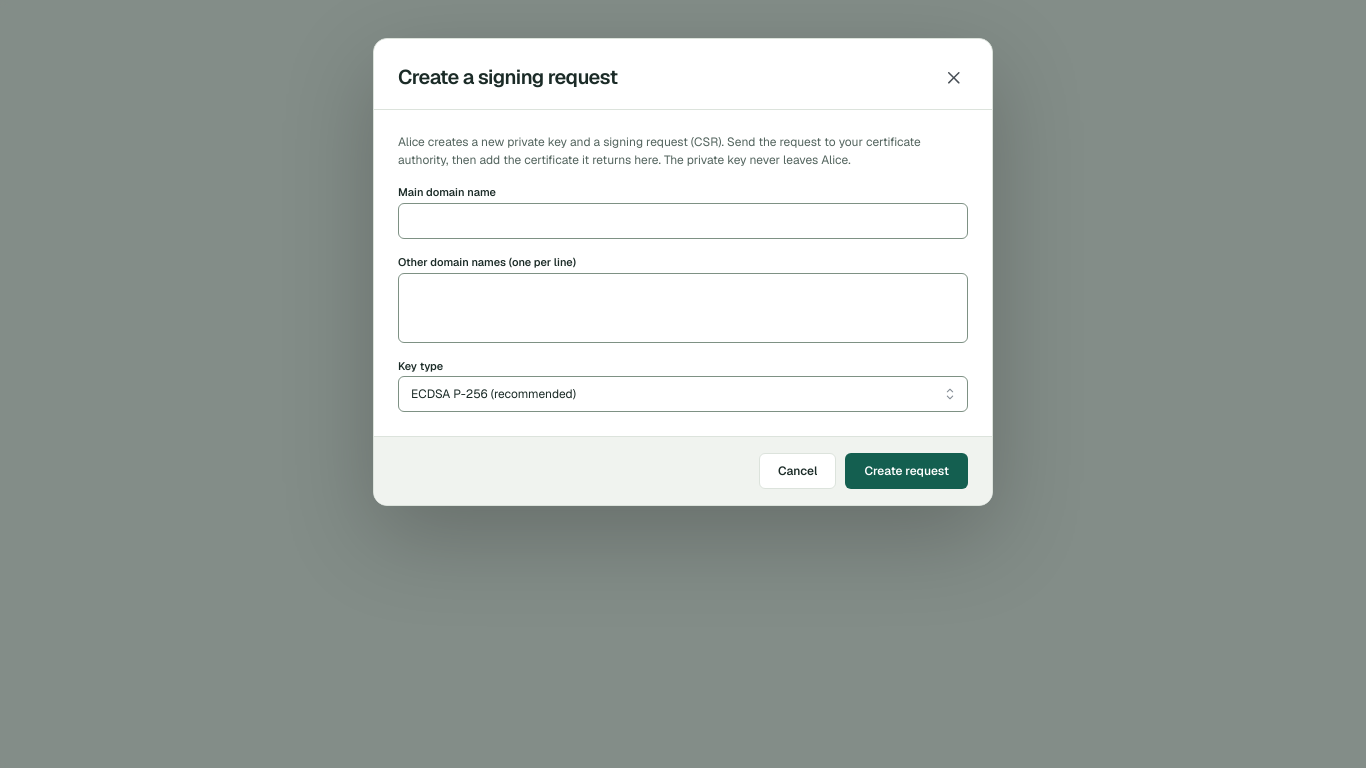
Scenario: CreateCSRDialog › offers the three key types, ECDSA first
The width and height of the screenshot is (1366, 768).
Select "RSA 3072" in the dropdown labelled "Key type": (683, 394) [398,376,968,412]
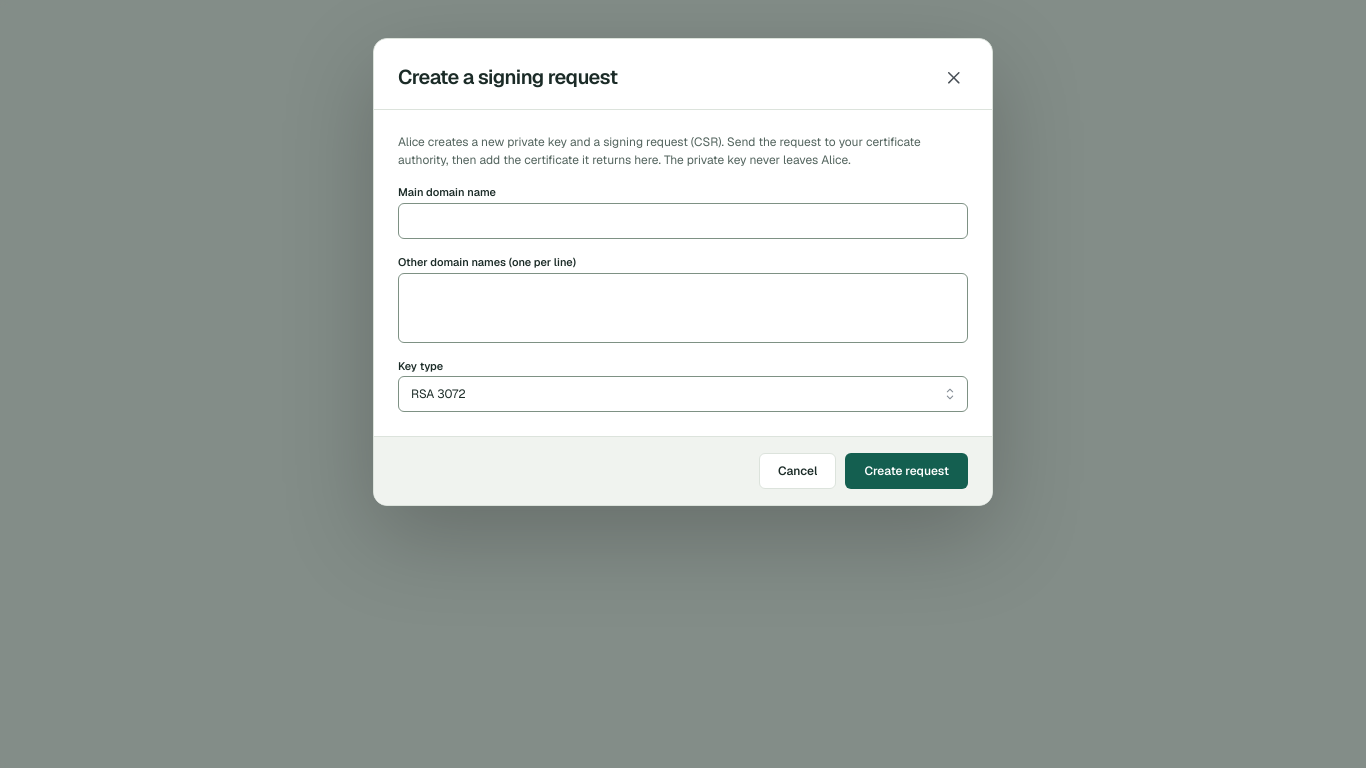
In the field labelled "Main domain name": (683, 221) [398,203,968,239], type "a.example.test"
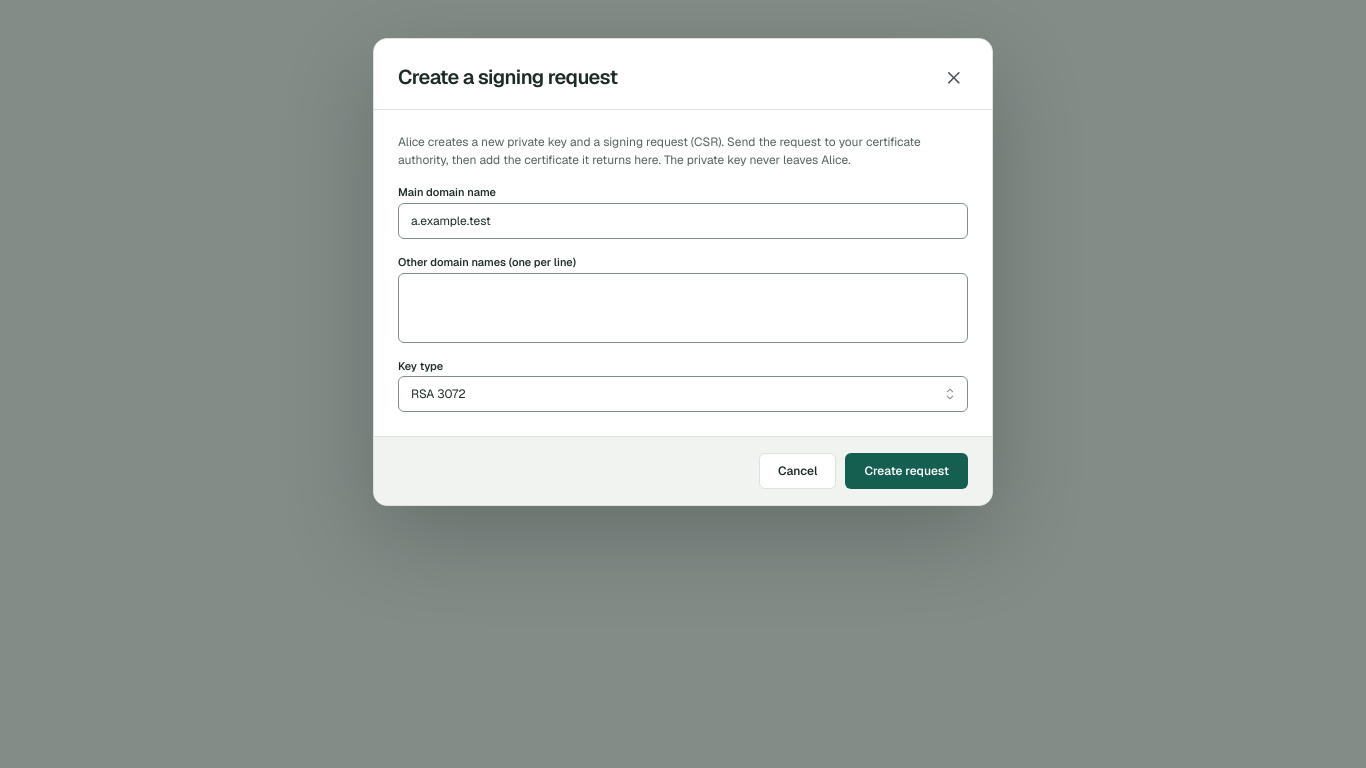
Click the button "Create request": (907, 471) [846,453,968,489]
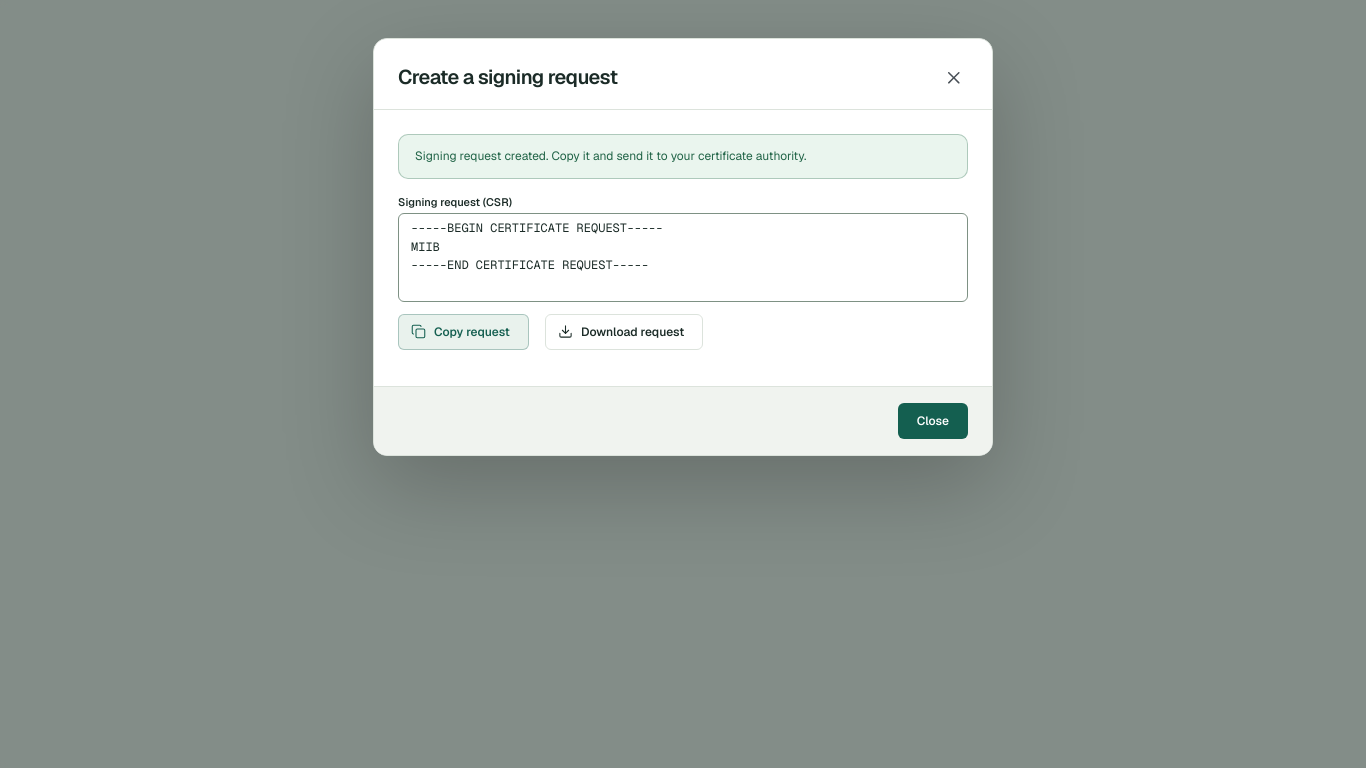
Expected: the text "Signing request created" is shown, [415,148,806,164]
